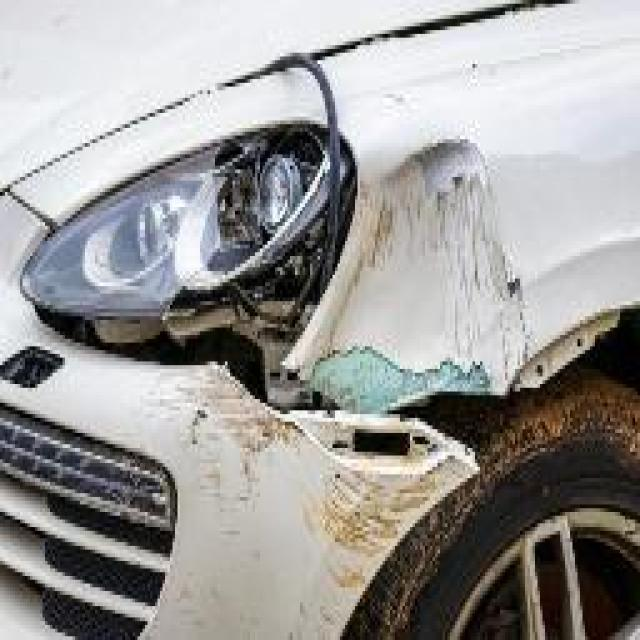Bumper: (142, 373, 468, 640)
Fender: (312, 120, 588, 414)
Light: (78, 147, 328, 328)
